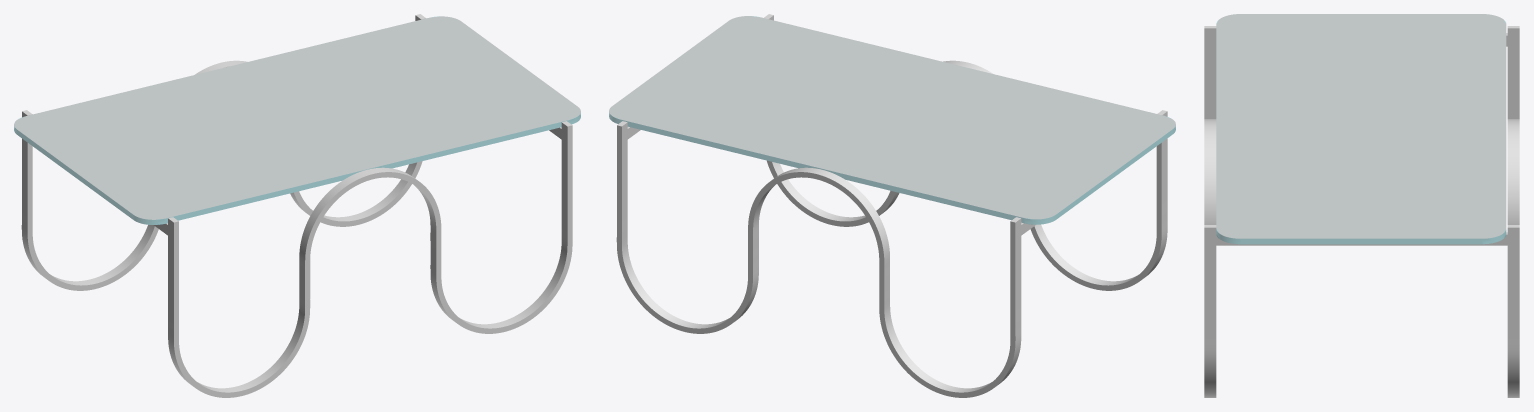
File: FriendlyWave2_mv.glb
3 renders of one model, left to right at view 1: azimuth 30°, elevation 25°; view 2: azimuth 150°, elevation 25°; view 3: azimuth 270°, elevation 25°, orthographic. The views are drawn at different scales.
Visible parts, largest first — view 1: FreindlyWave2_Top, FreindlyWave2_Leg; view 2: FreindlyWave2_Top, FreindlyWave2_Leg; view 3: FreindlyWave2_Top, FreindlyWave2_Leg.
Part boxes in pixels (box(x1,y1,x2,y2)): FreindlyWave2_Top: box(14, 16, 580, 224); FreindlyWave2_Leg: box(21, 14, 572, 397); FreindlyWave2_Top: box(609, 16, 1175, 224); FreindlyWave2_Leg: box(616, 14, 1167, 397); FreindlyWave2_Top: box(1216, 14, 1506, 244); FreindlyWave2_Leg: box(1204, 26, 1519, 397).
Size of the model in its own units: 0.88 by 0.3607 by 0.522.
